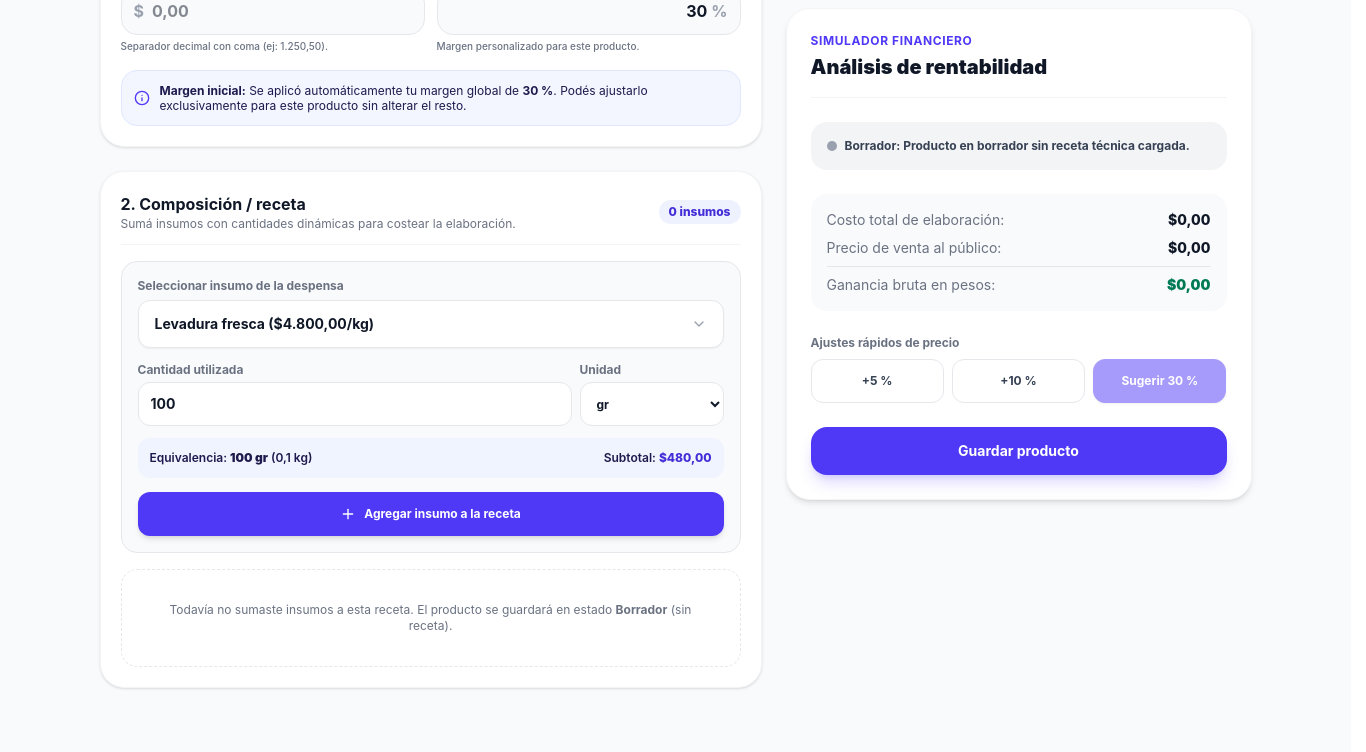
Test case: NewProductPage - edición de cantidades en la lista de receta › una cantidad que se redondea se avisa y la receta guarda lo mismo que se muestra
(page scrolled)
Click the button "Agregar insumo a la receta" at (430, 514), box [138,492,724,536]
(page scrolled)
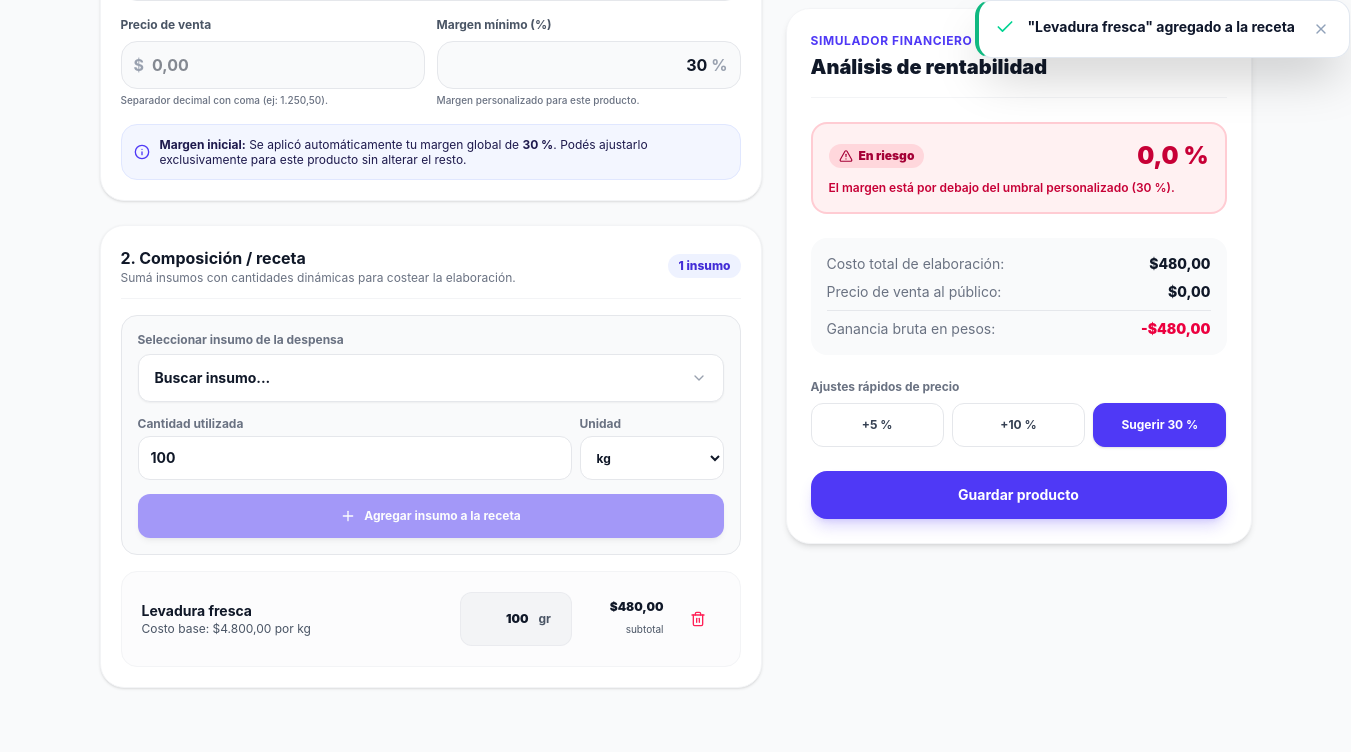
Expected: the field named "Cantidad de Levadura fresca" holds "100"
Replace the text in the field named "Cantidad de Levadura fresca" with "0,5" at (500, 619), box [472,611,528,627]
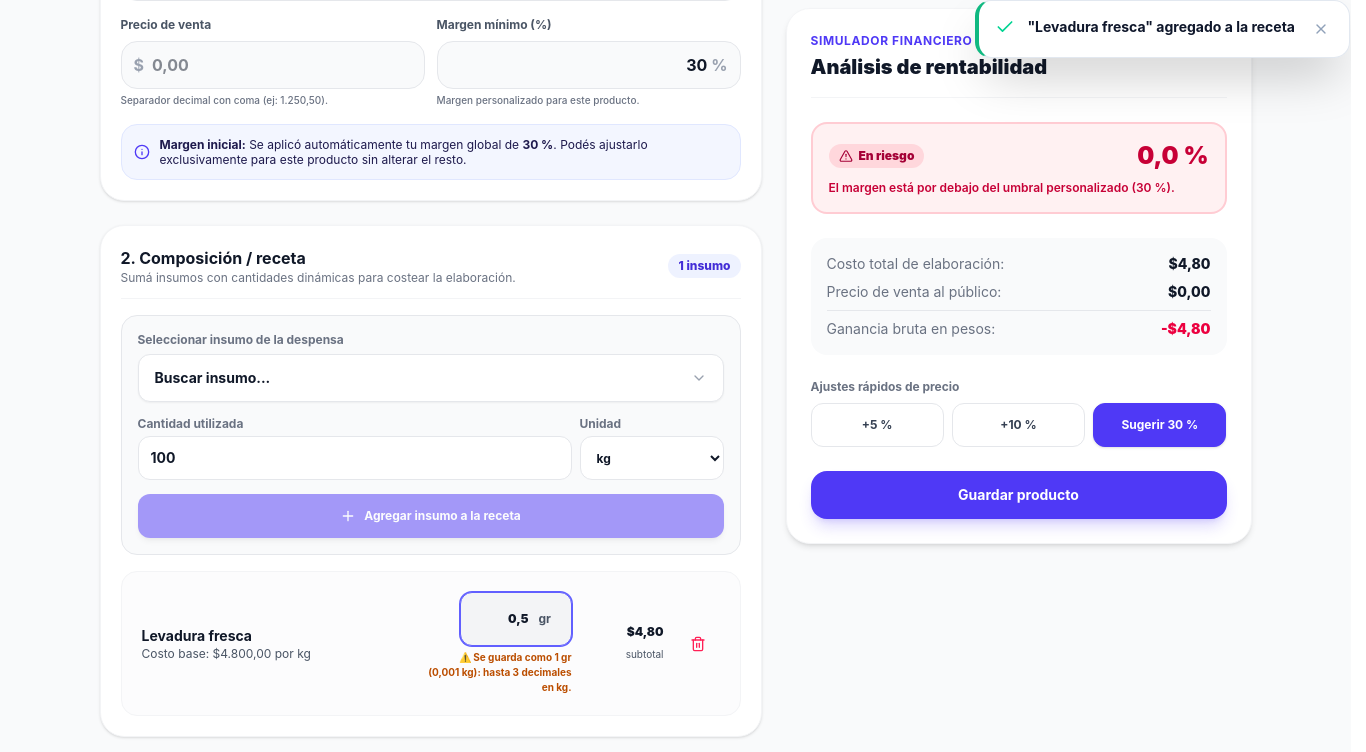
Press Tab
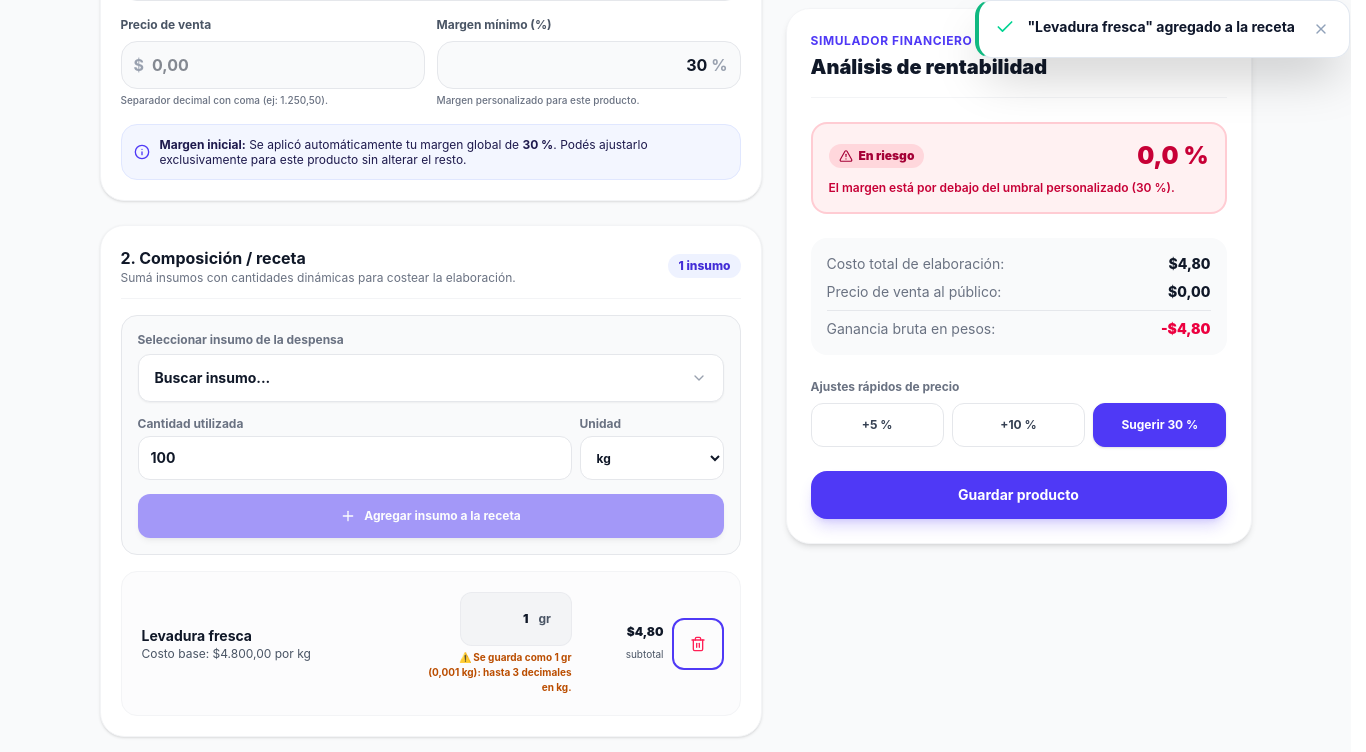
Expected: the message "⚠️ Se guarda como 1 gr (0,001 kg): hasta 3 decimales en kg." is shown, [428,650,572,695]
Expected: the field named "Cantidad de Levadura fresca" holds "1", [472,611,528,627]
